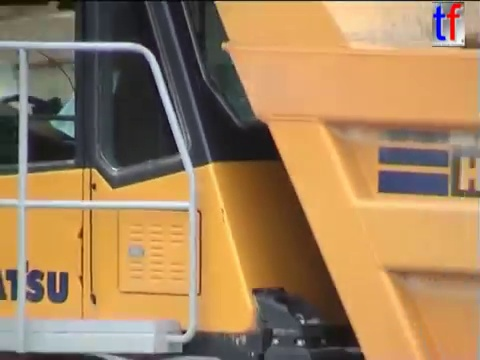truck: (1, 1, 480, 360)
worker: (1, 1, 184, 289)
